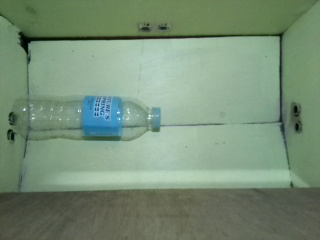bottle: (11, 95, 164, 141)
